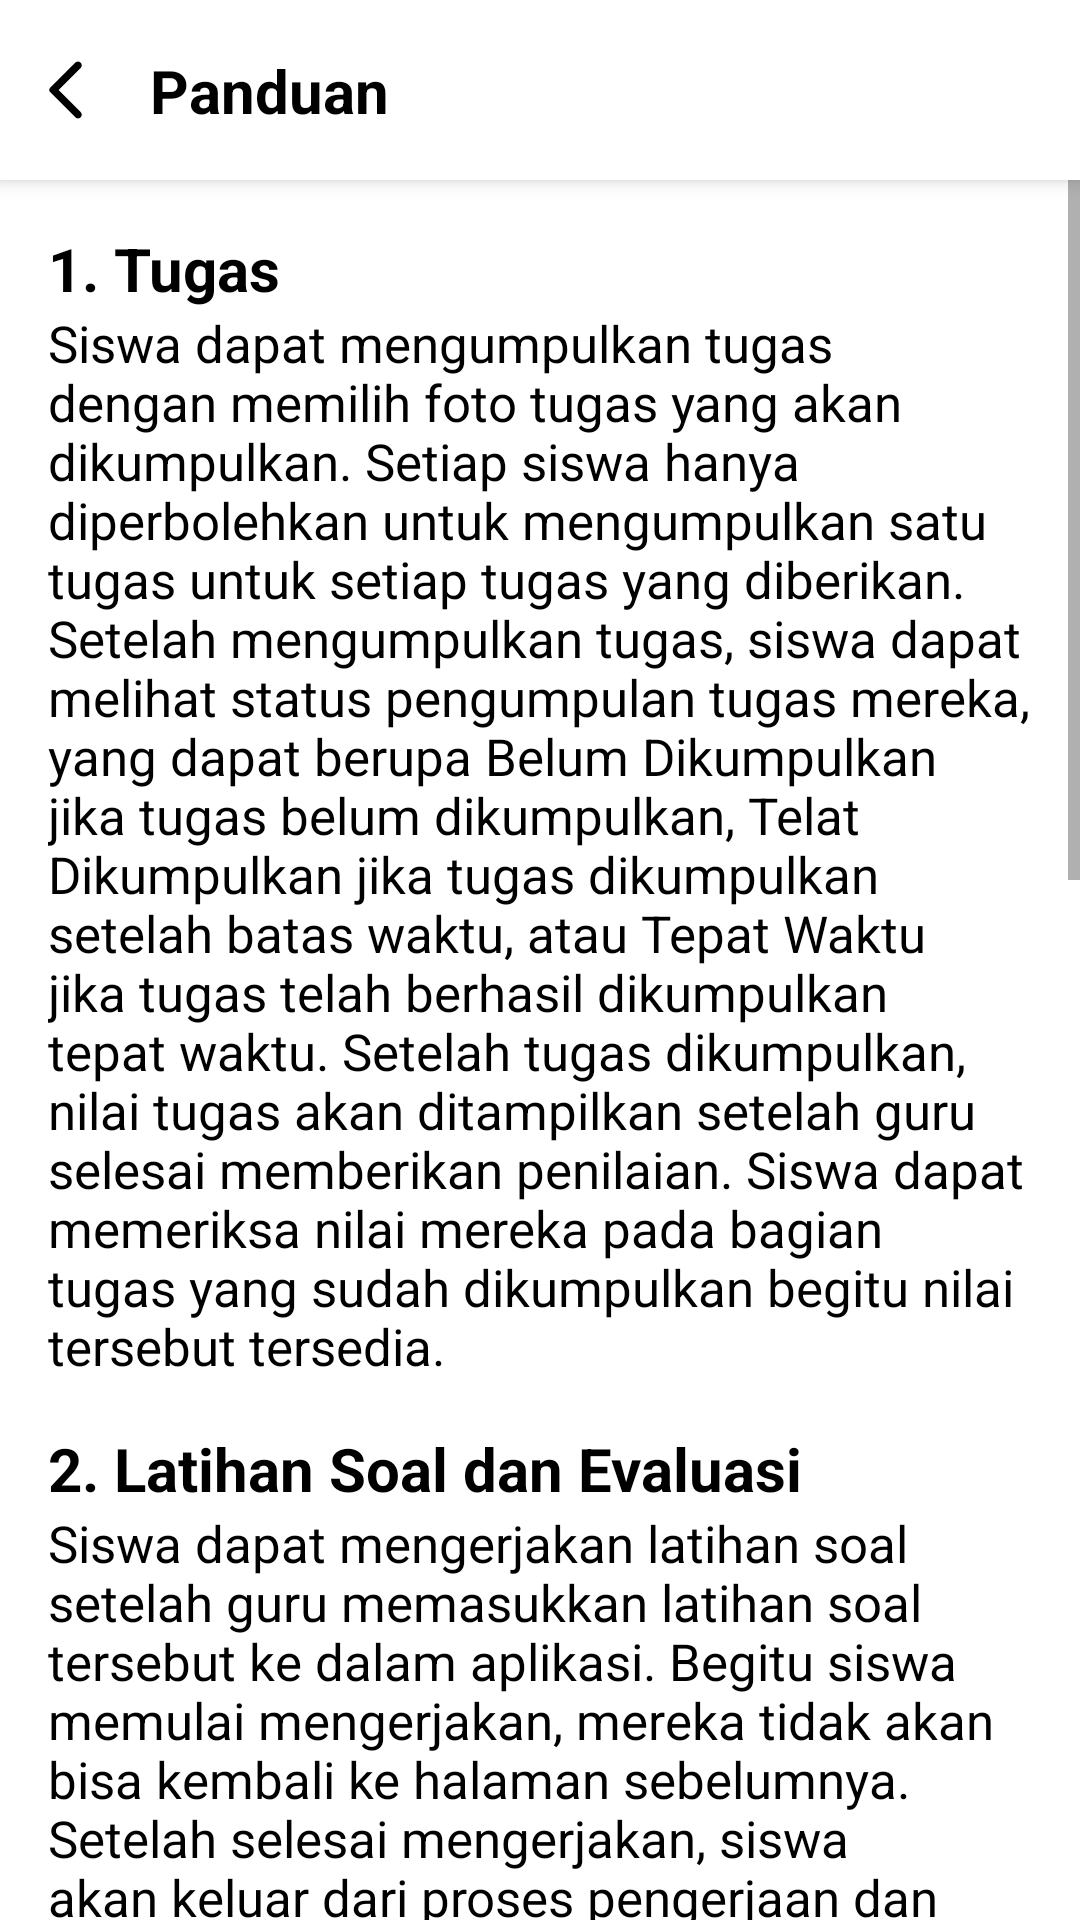

Screen size 1080 × 1920. Icon name, then its center in pixels as [x,y]:
back: [65,90]
